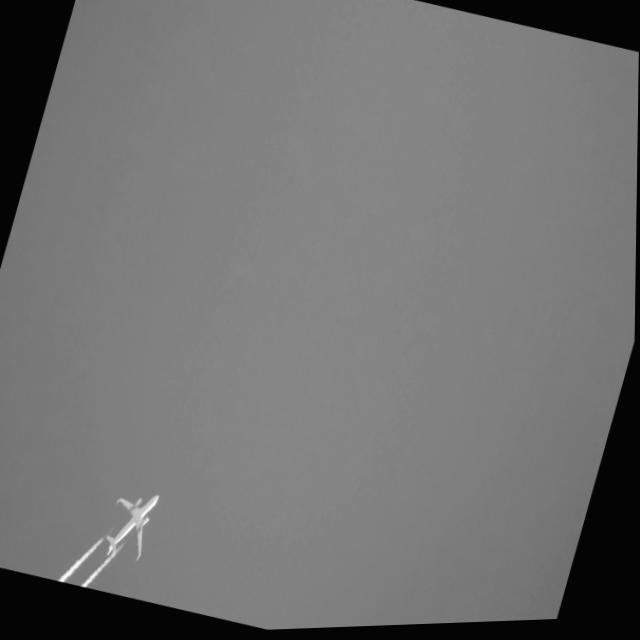aeroplane: (99, 470, 165, 567)
